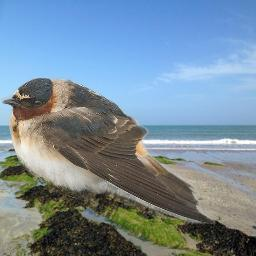Swallow: (1, 77, 216, 224)
